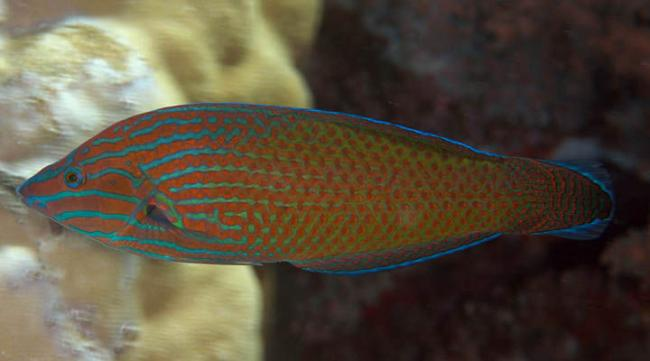fish: (16, 102, 615, 278)
